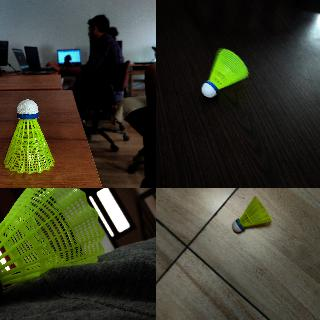shuttlecock: (0, 188, 104, 309), (2, 99, 54, 173), (200, 48, 246, 98), (232, 195, 272, 231)
